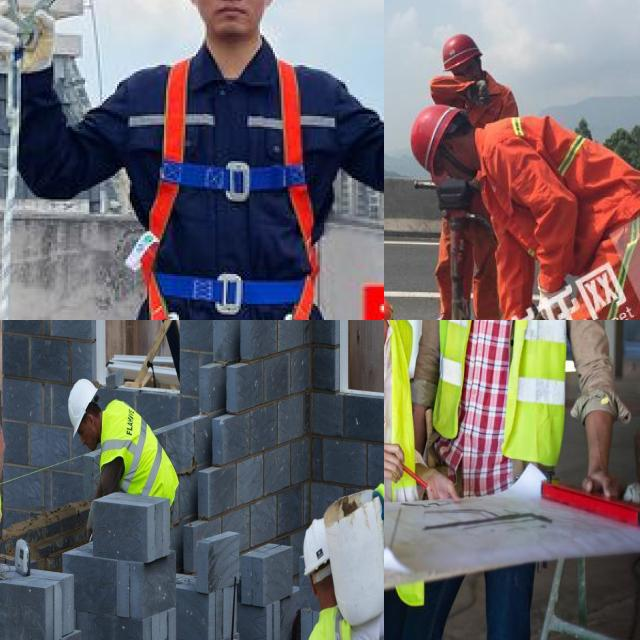Harness: (131, 54, 330, 320), (0, 0, 72, 76)
No_Ear-Protection: (444, 137, 458, 154)
hand_glove: (371, 468, 384, 534)
hand_noglove: (581, 428, 626, 518), (384, 434, 407, 487)
head_helmet: (401, 96, 473, 179), (437, 18, 484, 74), (68, 377, 100, 438), (304, 514, 329, 576)
person: (431, 98, 640, 320), (405, 320, 609, 482), (417, 5, 520, 312), (67, 374, 180, 534), (384, 320, 445, 531), (296, 516, 384, 640)
vest: (445, 320, 581, 482), (493, 120, 638, 242), (384, 320, 427, 521), (100, 401, 178, 503)
